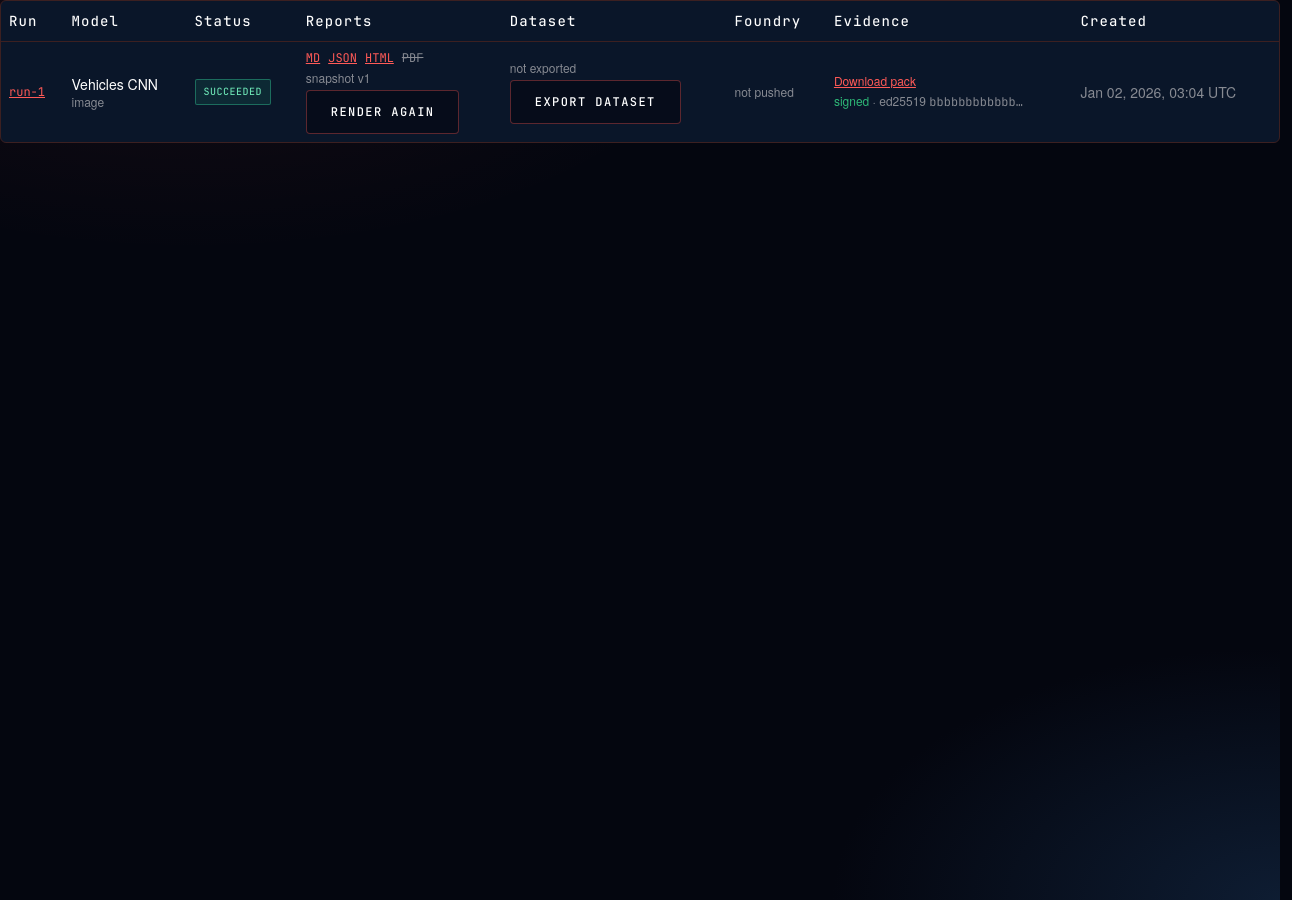
Test: ExportsTable actions › shows the API refusal beside the row with its code
Click the button "Export dataset": coordinates (595, 102) [510, 80, 681, 124]
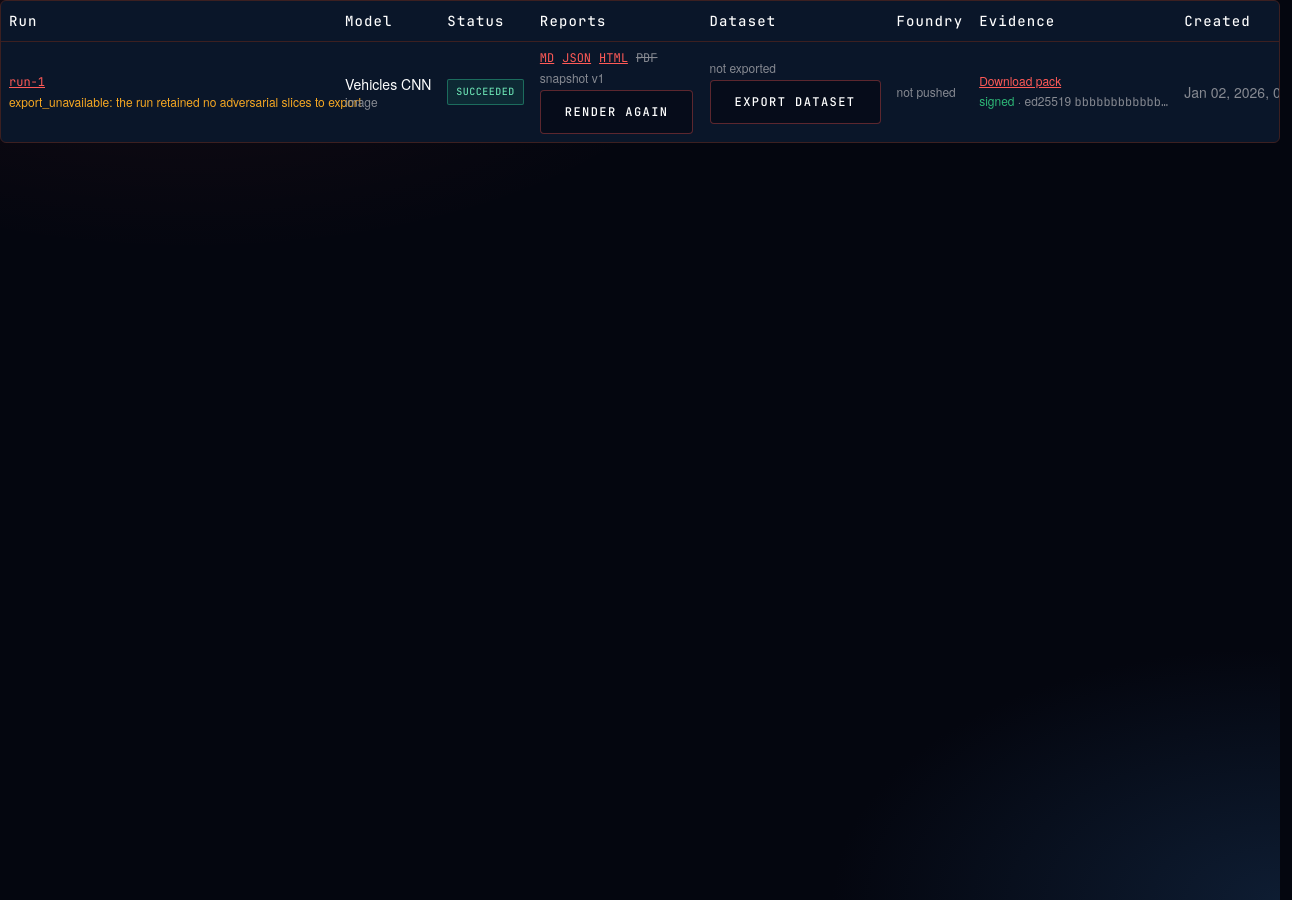
Expected: the link "run-1" is shown, [9, 74, 45, 90]
Result: the message reads "export_unavailable: the run retained no adversarial slices to export" at [9, 92, 362, 110]
